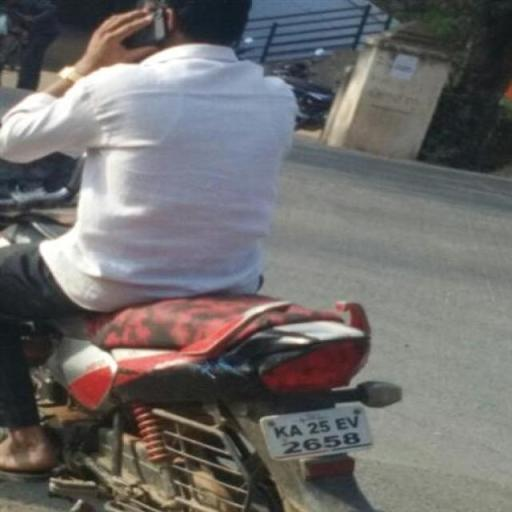using mobile: (83, 0, 180, 62)
